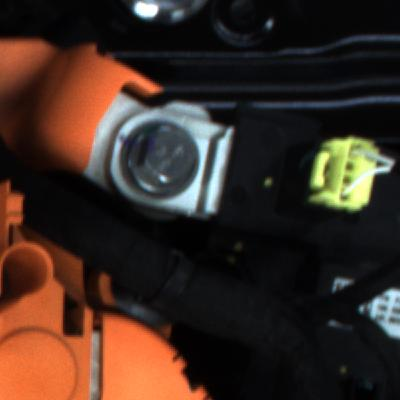nut_b: (117, 113, 206, 203)
